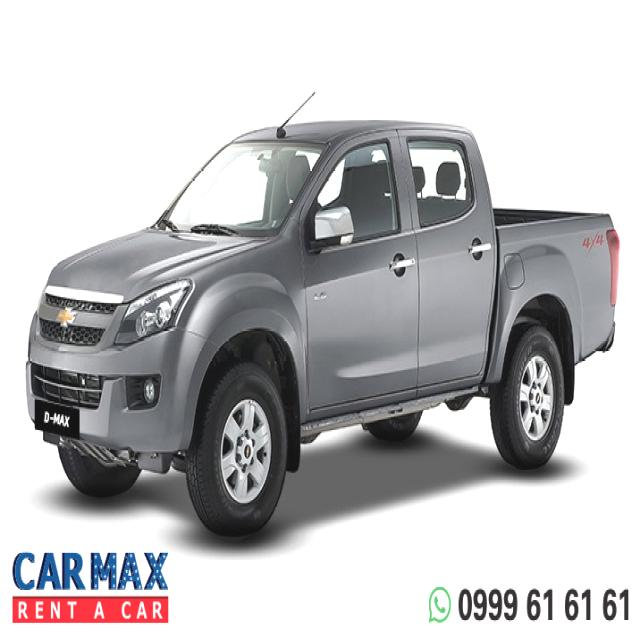CMT: (20, 120, 618, 538)
